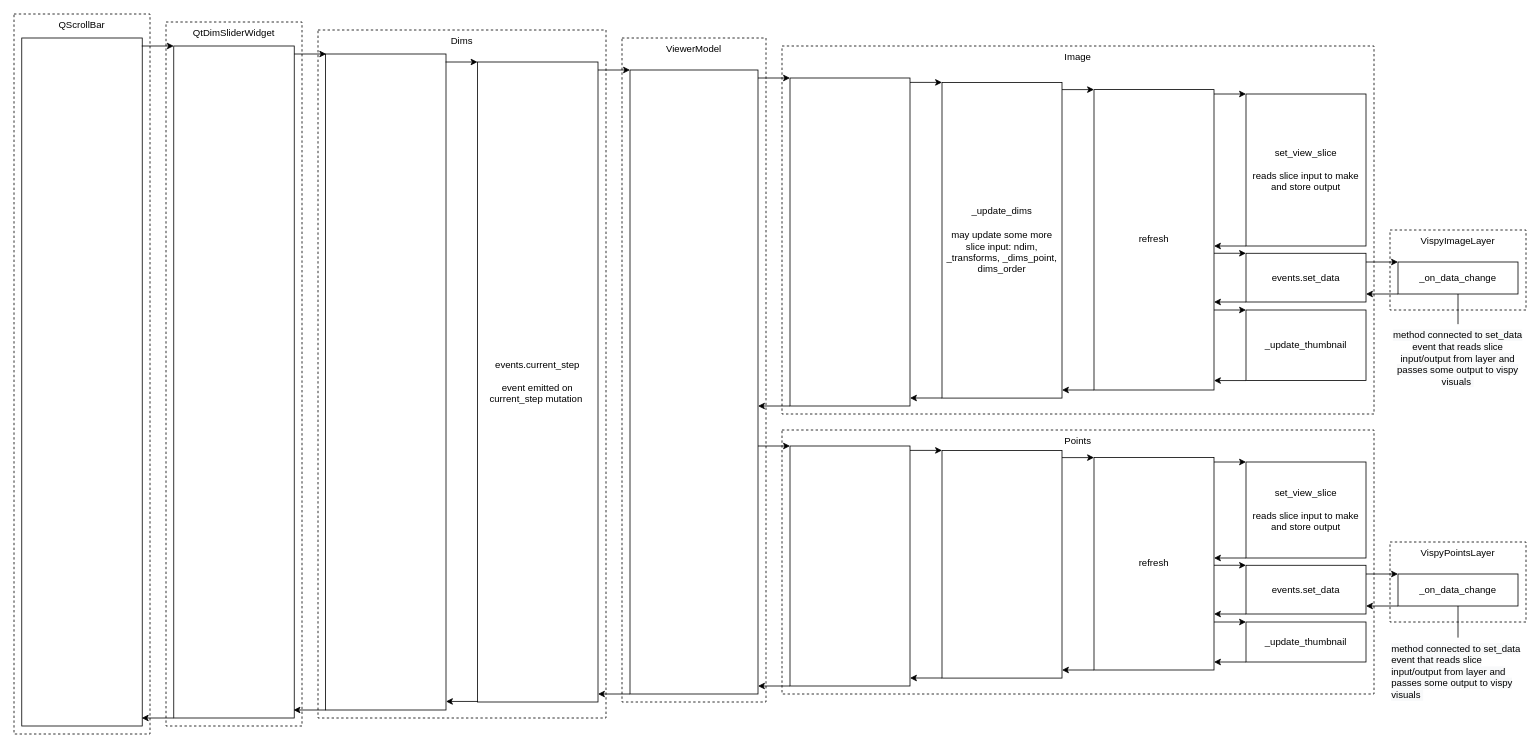
The diagram is 1540 pixels wide and 748 high, and some of its shapes have lost their labels. Each missing label, with the centre of its shape:
_slice_dims: pixel 849 565
_slice_dims updates some slice input: _dims_point, _dims_order, _ndisplay: pixel 849 241
_update_dims: pixel 1001 564
_update_layers method connected to current_step event: pixel 693 381
_value_changed method connected to valueChanged signal: pixel 233 381
set_current_step method called by _value_changed: pixel 385 381
valueChanged Qt signal emitted when the slider position changes: pixel 81 381
